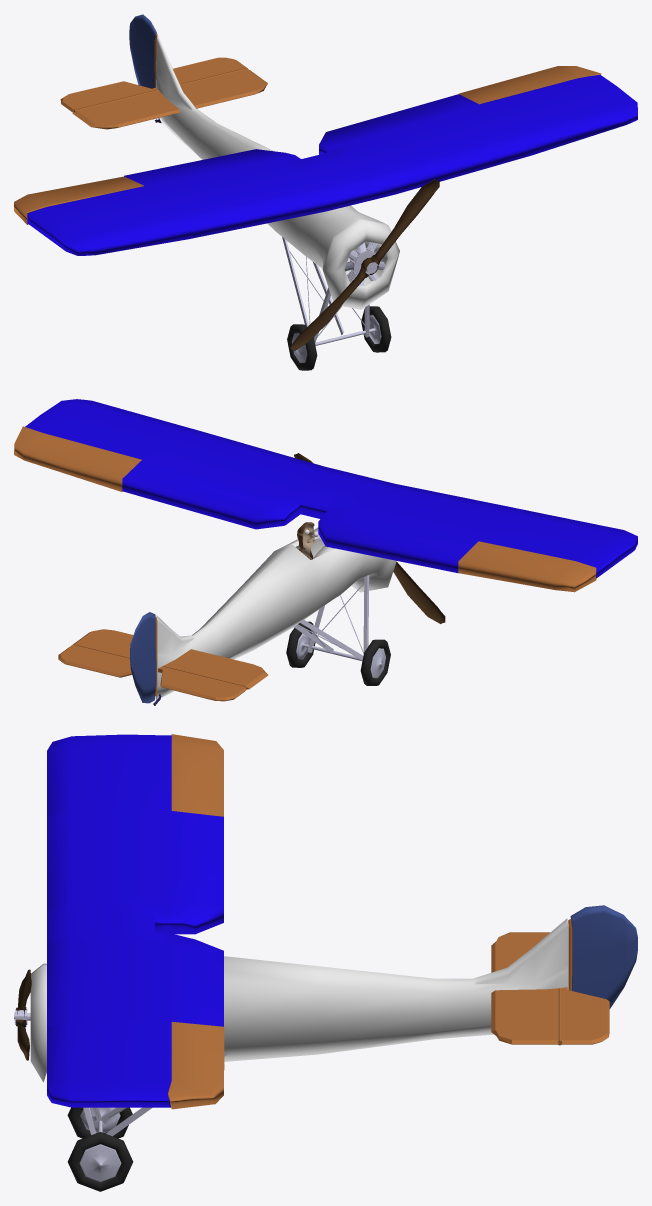
Rendered from Boulton_PaulsonBiplane.glb.
The picture shows the model from 3 angles, top to bottom: view 1: azimuth 30°, elevation 25°; view 2: azimuth 150°, elevation 25°; view 3: azimuth 270°, elevation 25°; orthographic projection. The views are drawn at different scales.
Parts seen in each view (by area): view 1: UpperWing, Fuselage, TailFIns, UpperWingRutters, Propller, TailRutter, Wheels.001, WheelSupport.001, Engine, Wheels; view 2: UpperWing, Fuselage, UpperWingRutters, TailFIns, TailRutter, Wheels.001, Propller, Wheels, WheelSupport, WheelSupport.001; view 3: UpperWing, Fuselage, UpperWingRutters, TailFIns, TailRutter, Wheels.001, Wheels, Propller.
Part boxes in pixels (box(x1,y1,x2,y2)): UpperWing: box(27, 74, 637, 255); Fuselage: box(156, 34, 399, 309); TailFIns: box(60, 57, 267, 129); UpperWingRutters: box(14, 66, 601, 224); Propller: box(290, 179, 439, 350); TailRutter: box(129, 14, 156, 88); Wheels.001: box(287, 306, 391, 370); WheelSupport.001: box(282, 237, 344, 335); Engine: box(344, 242, 385, 286); Wheels: box(292, 315, 381, 362); UpperWing: box(25, 399, 637, 578); Fuselage: box(155, 527, 396, 700); UpperWingRutters: box(14, 426, 596, 592); TailFIns: box(58, 629, 268, 701); TailRutter: box(130, 612, 156, 703); Wheels.001: box(286, 621, 390, 685); Propller: box(294, 453, 445, 623); Wheels: box(296, 631, 385, 678); WheelSupport: box(307, 575, 369, 653); WheelSupport.001: box(294, 619, 363, 660); UpperWing: box(47, 734, 223, 1107); Fuselage: box(30, 918, 568, 1082); UpperWingRutters: box(168, 734, 224, 1109); TailFIns: box(491, 932, 609, 1044); TailRutter: box(570, 905, 637, 1008); Wheels.001: box(67, 1107, 133, 1191); Wheels: box(79, 1107, 121, 1182); Propller: box(16, 969, 31, 1060).
Size of the model in its own units: 25.68 by 8.75 by 18.82.
Materials: 17 (1 with a texture image).
